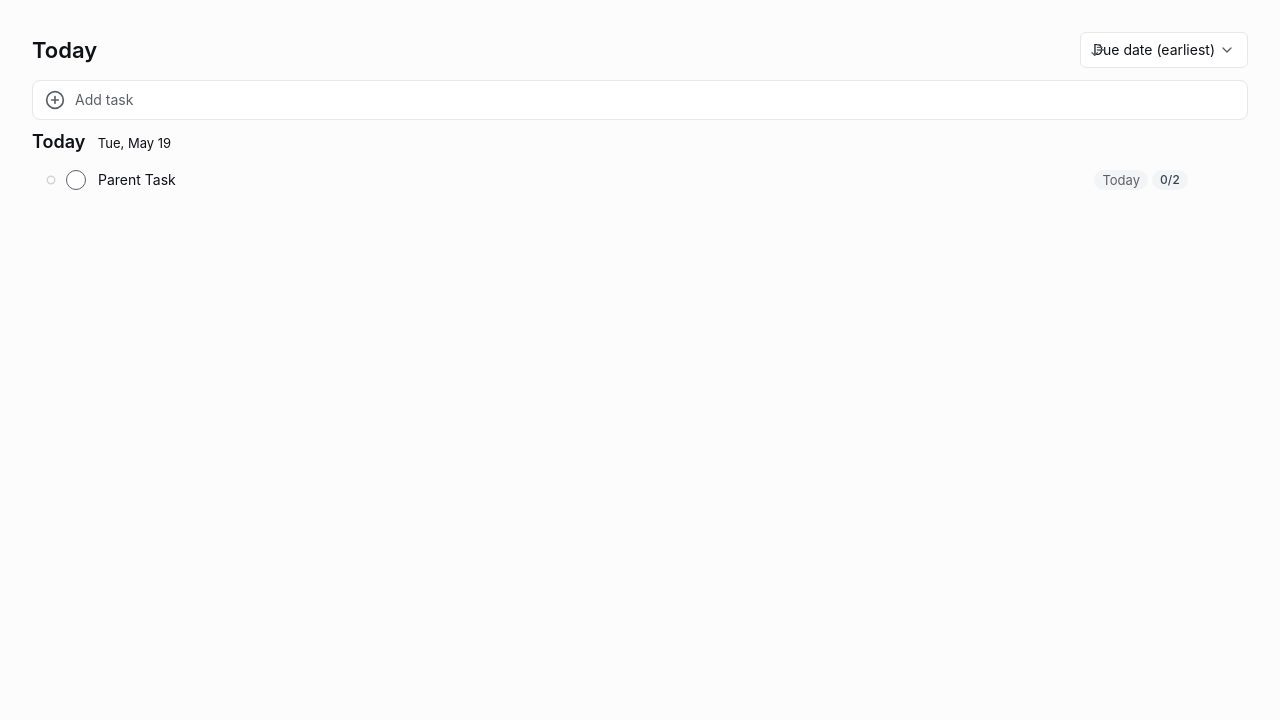
Test: TodayView — parent completion blocking › clicking checkbox on item with 2 incomplete subtasks opens ConfirmationPrompt
This screenshot has width=1280, height=720.
Click the checkbox named "mark parent task complete" at (76,180), box top-left (66, 170), bottom-right (86, 190)
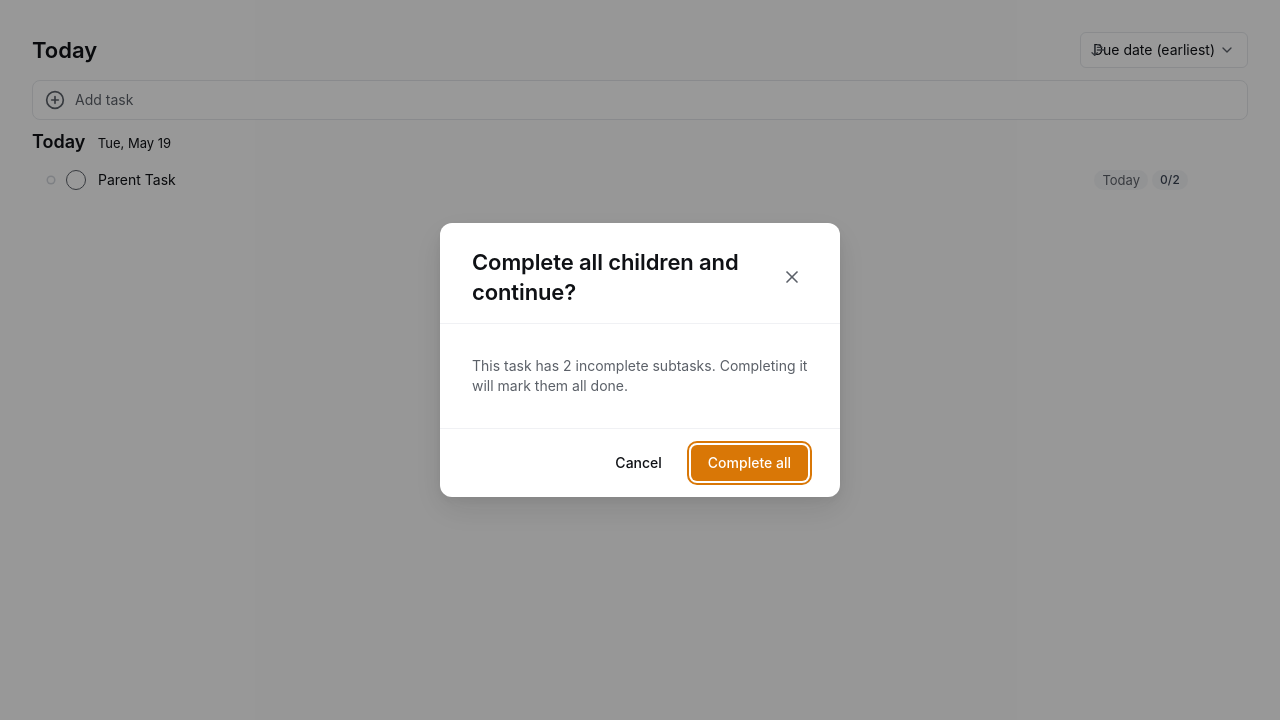
Expected: the heading "Complete all children and continue?" is shown, top-left (472, 247), bottom-right (776, 307)
